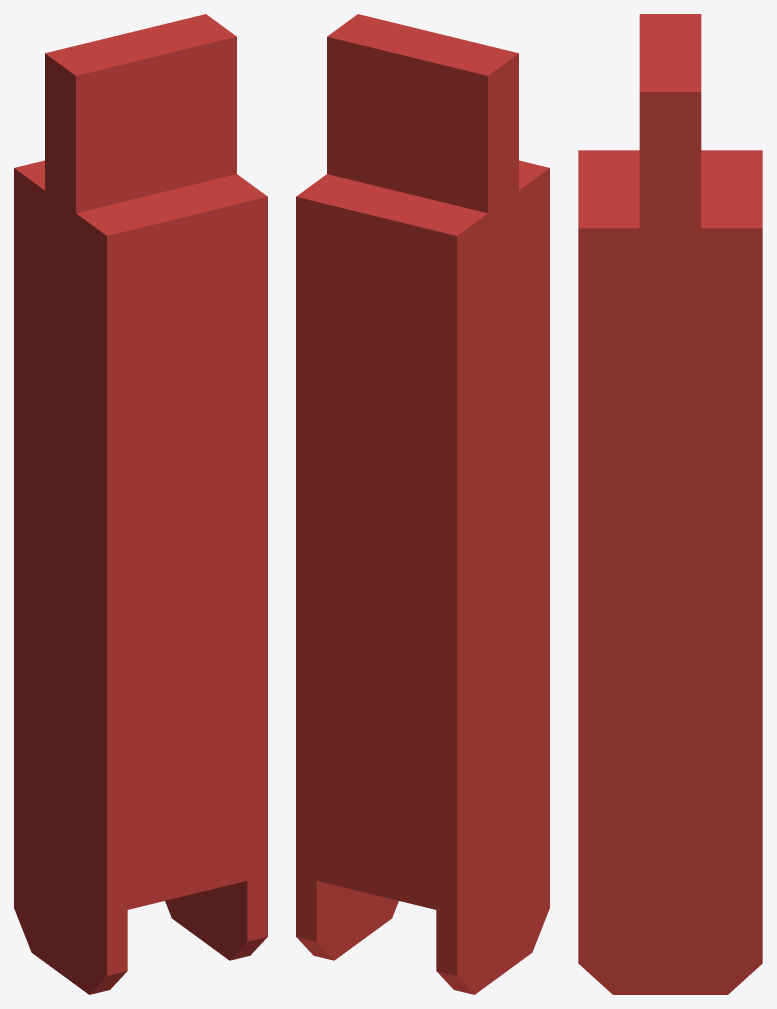
3 renders of one model, left to right at view 1: azimuth 30°, elevation 25°; view 2: azimuth 150°, elevation 25°; view 3: azimuth 270°, elevation 25°, orthographic.
Parts seen in each view (by area): view 1: Elbow_001; view 2: Elbow_001; view 3: Elbow_001.
Boxes of the visible parts, left/top/right/bottom form: Elbow_001: left=14, top=14, right=267, bottom=994; Elbow_001: left=296, top=14, right=549, bottom=994; Elbow_001: left=578, top=14, right=762, bottom=994.
Size of the model in its own units: 2 by 2 by 10.79.
